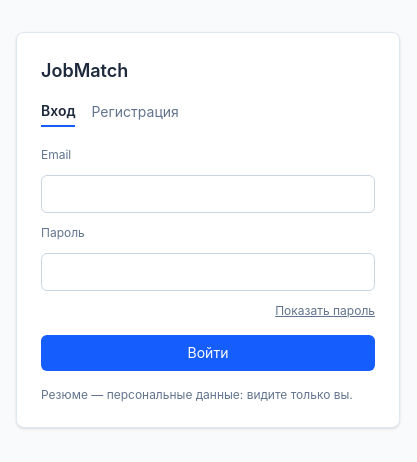
Test: вход и регистрация › показывает сообщение сервера при неверном пароле
Type "ivan@example.com" into the field labelled "Email" at (208, 194), box x1=41 y1=175 x2=375 y2=213
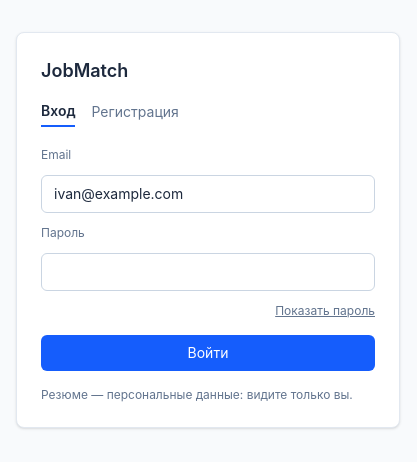
Type "wrong-password" into the password field labelled "Пароль" at (208, 272), box x1=41 y1=253 x2=375 y2=291
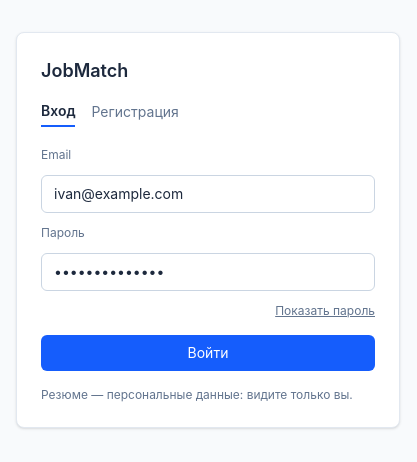
Click the button "Войти" at (208, 353), box x1=41 y1=335 x2=375 y2=371
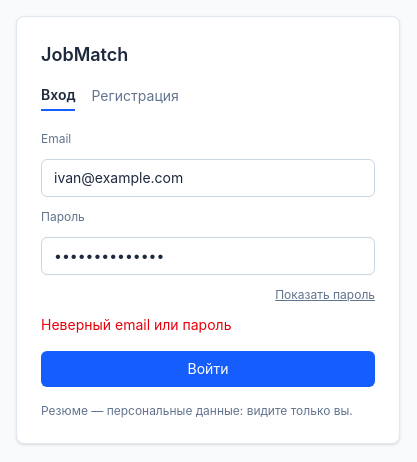
Now the message reads "Неверный email или пароль", box x1=41 y1=316 x2=232 y2=333
